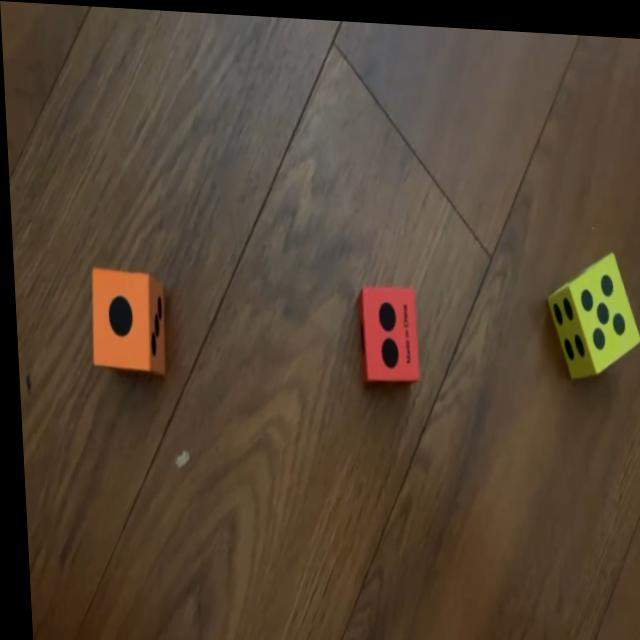cube: (353, 280, 417, 377)
